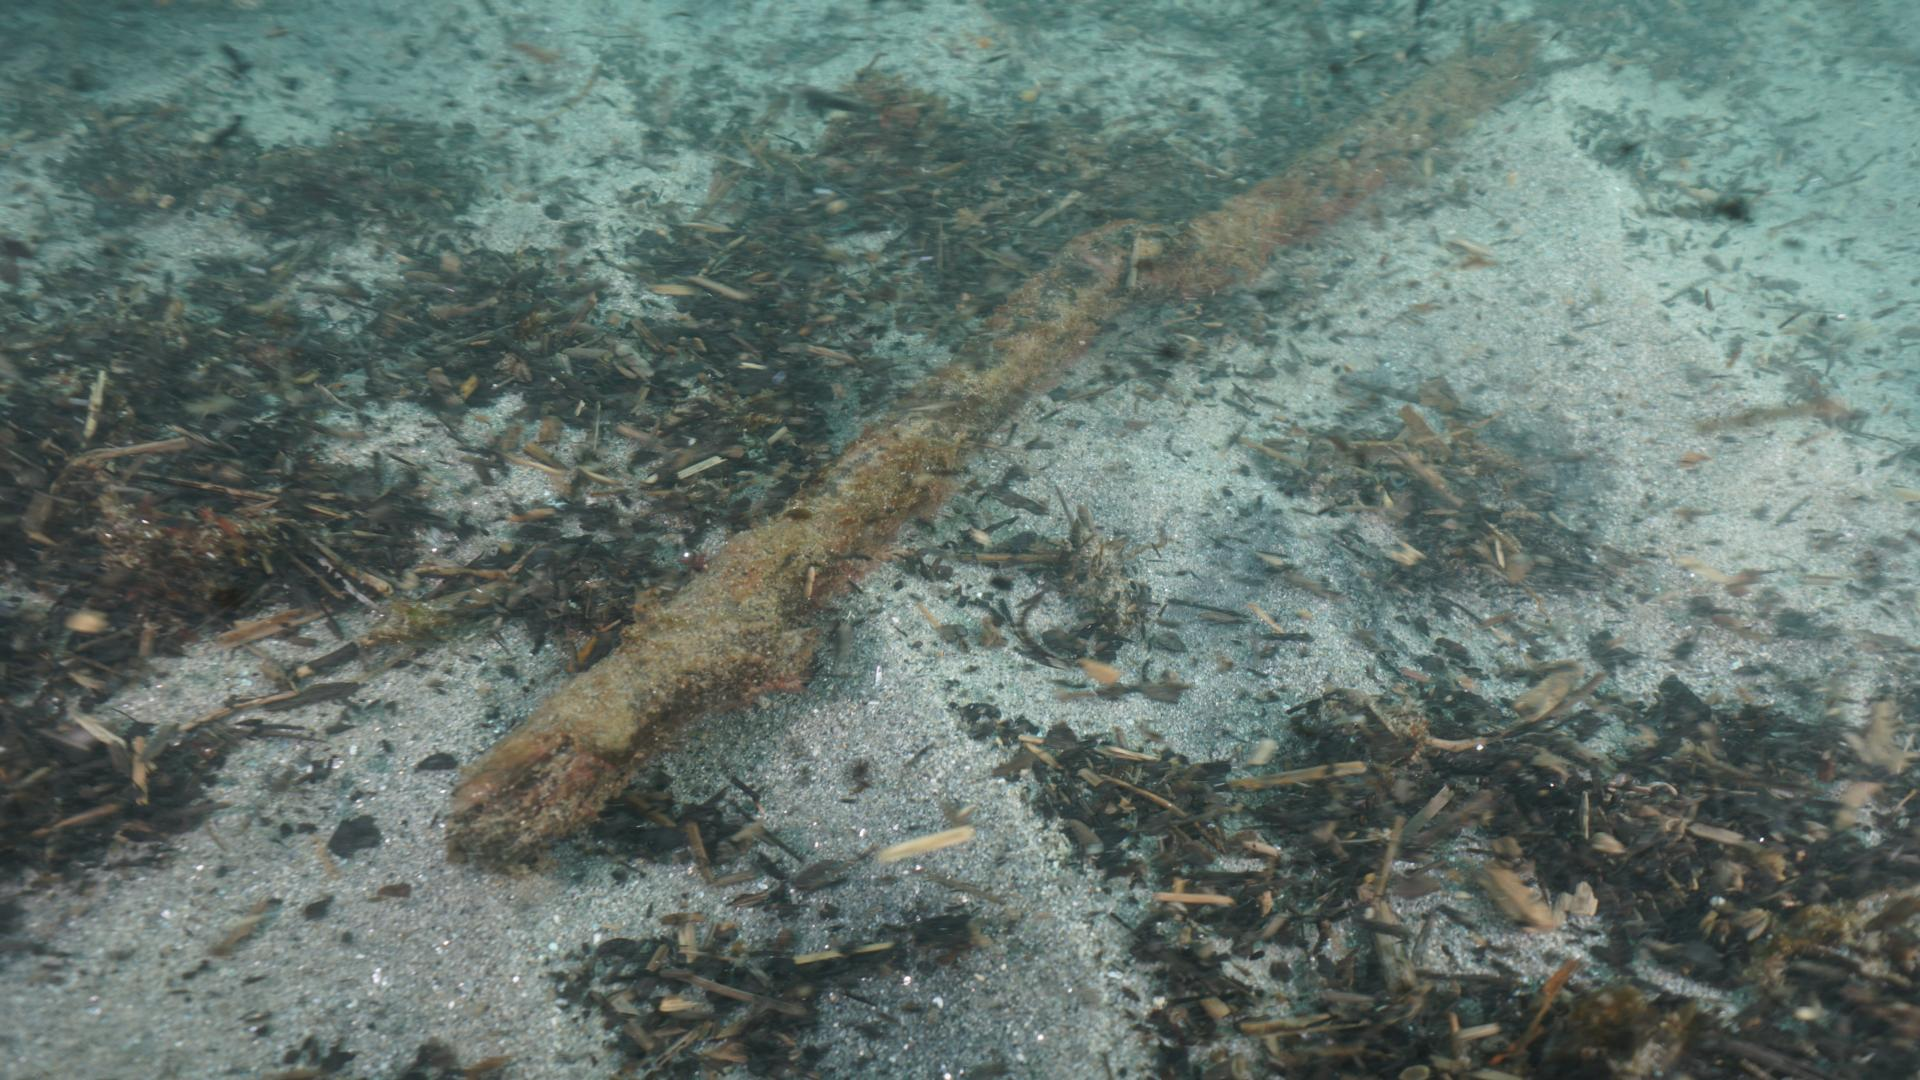wood: (450, 18, 1551, 866)
